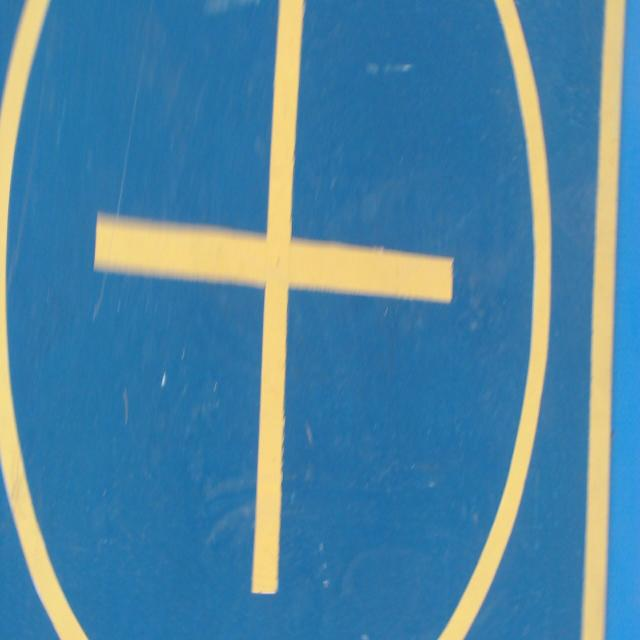base_pouso: (0, 0, 627, 639)
